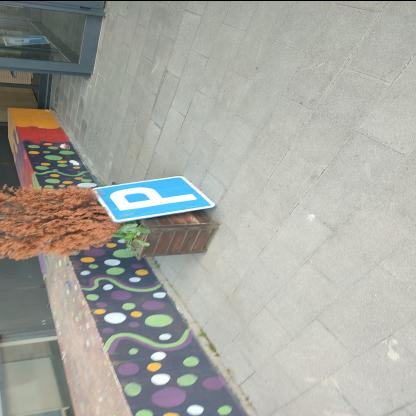Parking-Sign: (93, 175, 222, 224)
